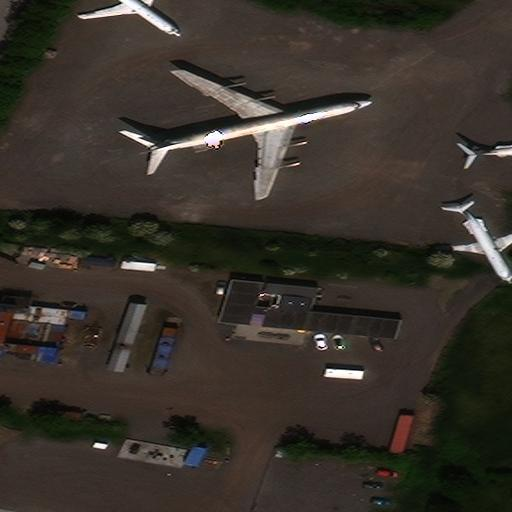Large Civil Transport: (138, 69, 374, 198)
Medium Civil Transport: (433, 202, 512, 283), (78, 0, 181, 36)
